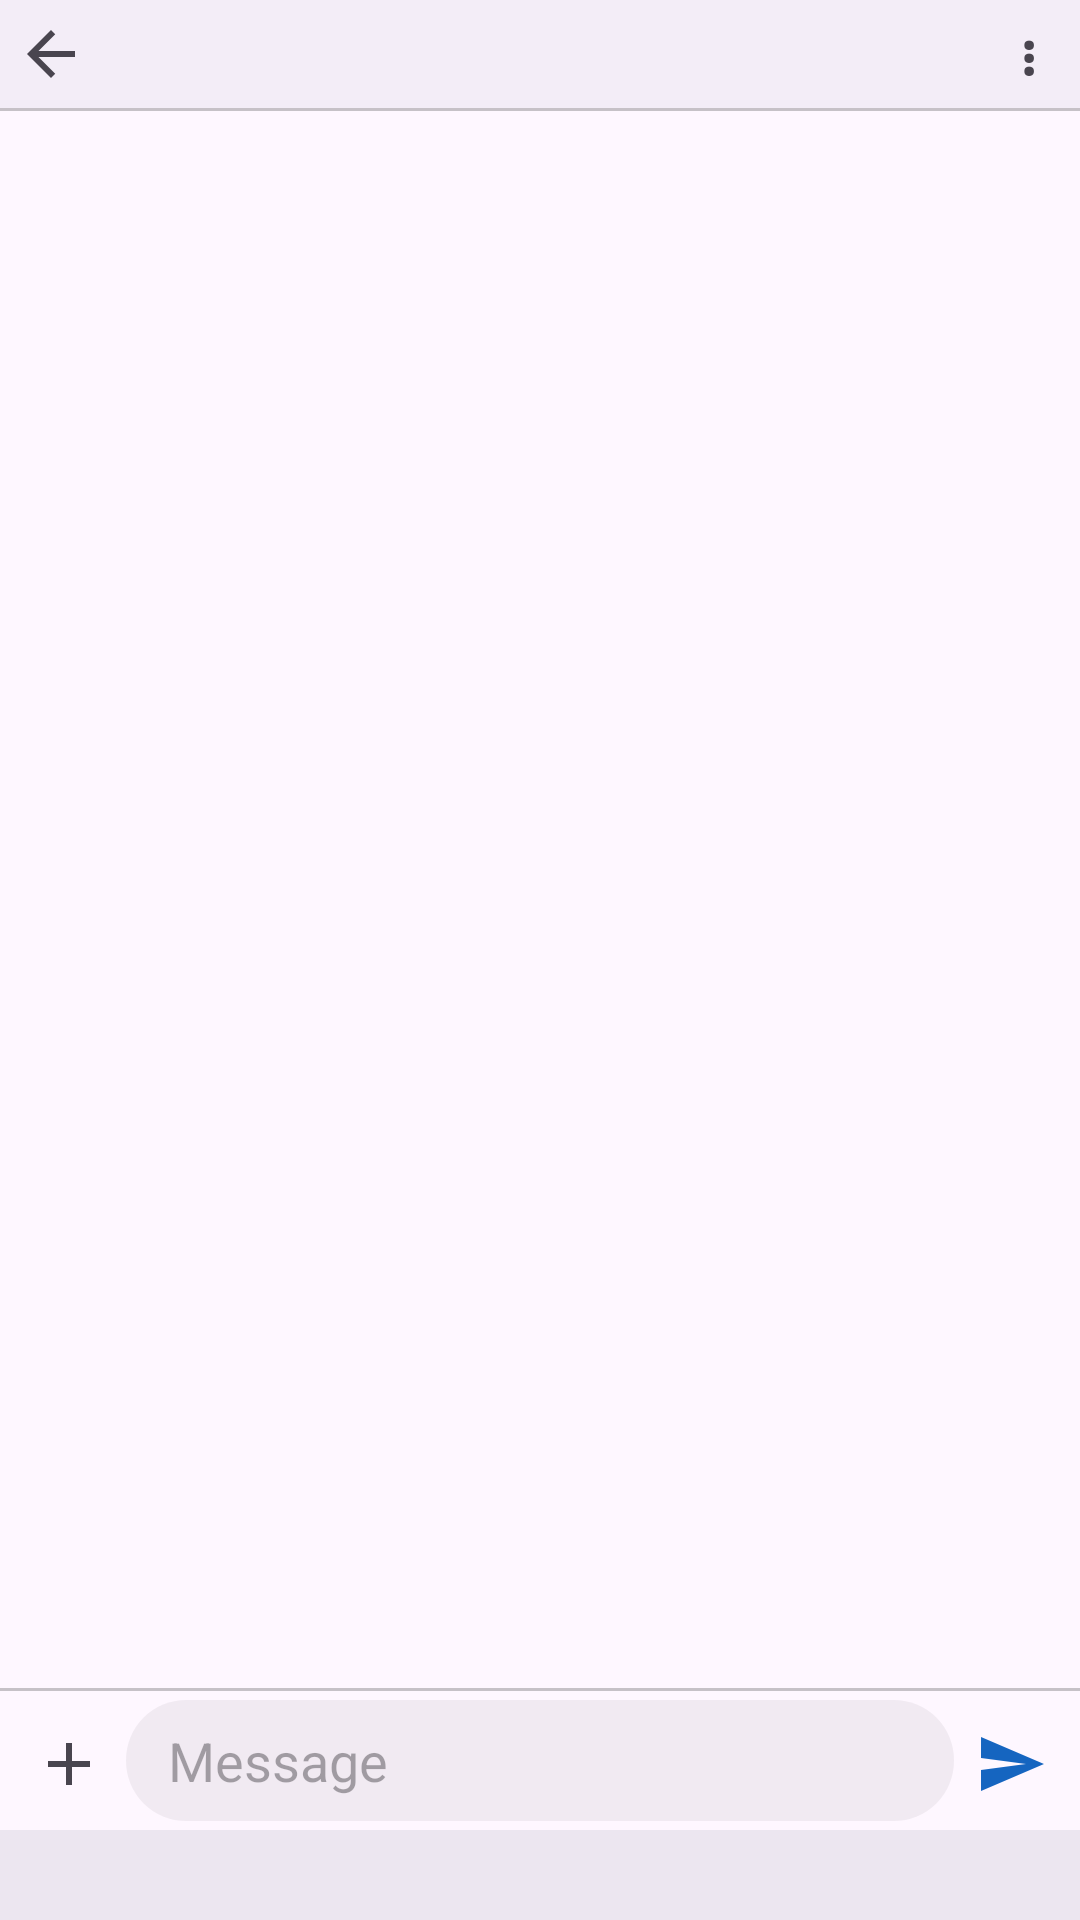

Locate icon controls on the screen. Image size 1080x1920, boxes as {"left": x1, "top": y1, "right": x2, "bottom": y2}.
Attach: {"left": 48, "top": 1743, "right": 90, "bottom": 1785}
Back: {"left": 27, "top": 30, "right": 75, "bottom": 78}
Send: {"left": 981, "top": 1737, "right": 1044, "bottom": 1791}
